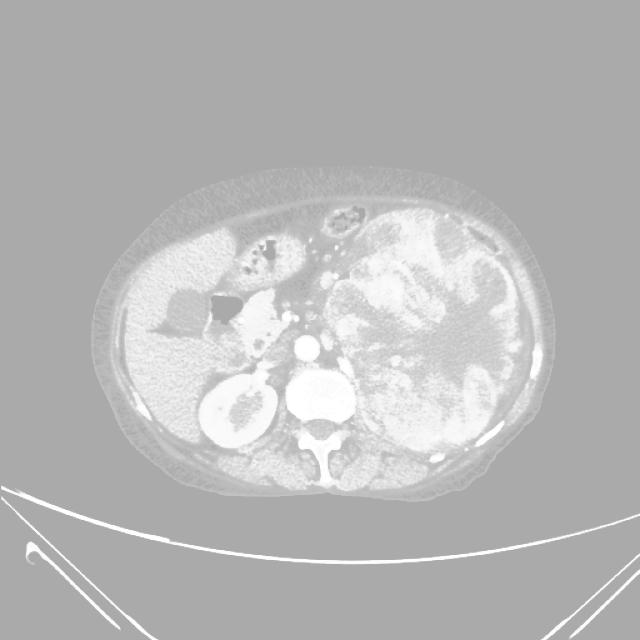TUMOR: (112, 232, 317, 436)
